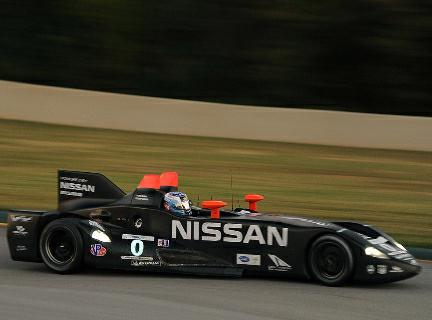日产-DeltaWing: (8, 165, 425, 293)
